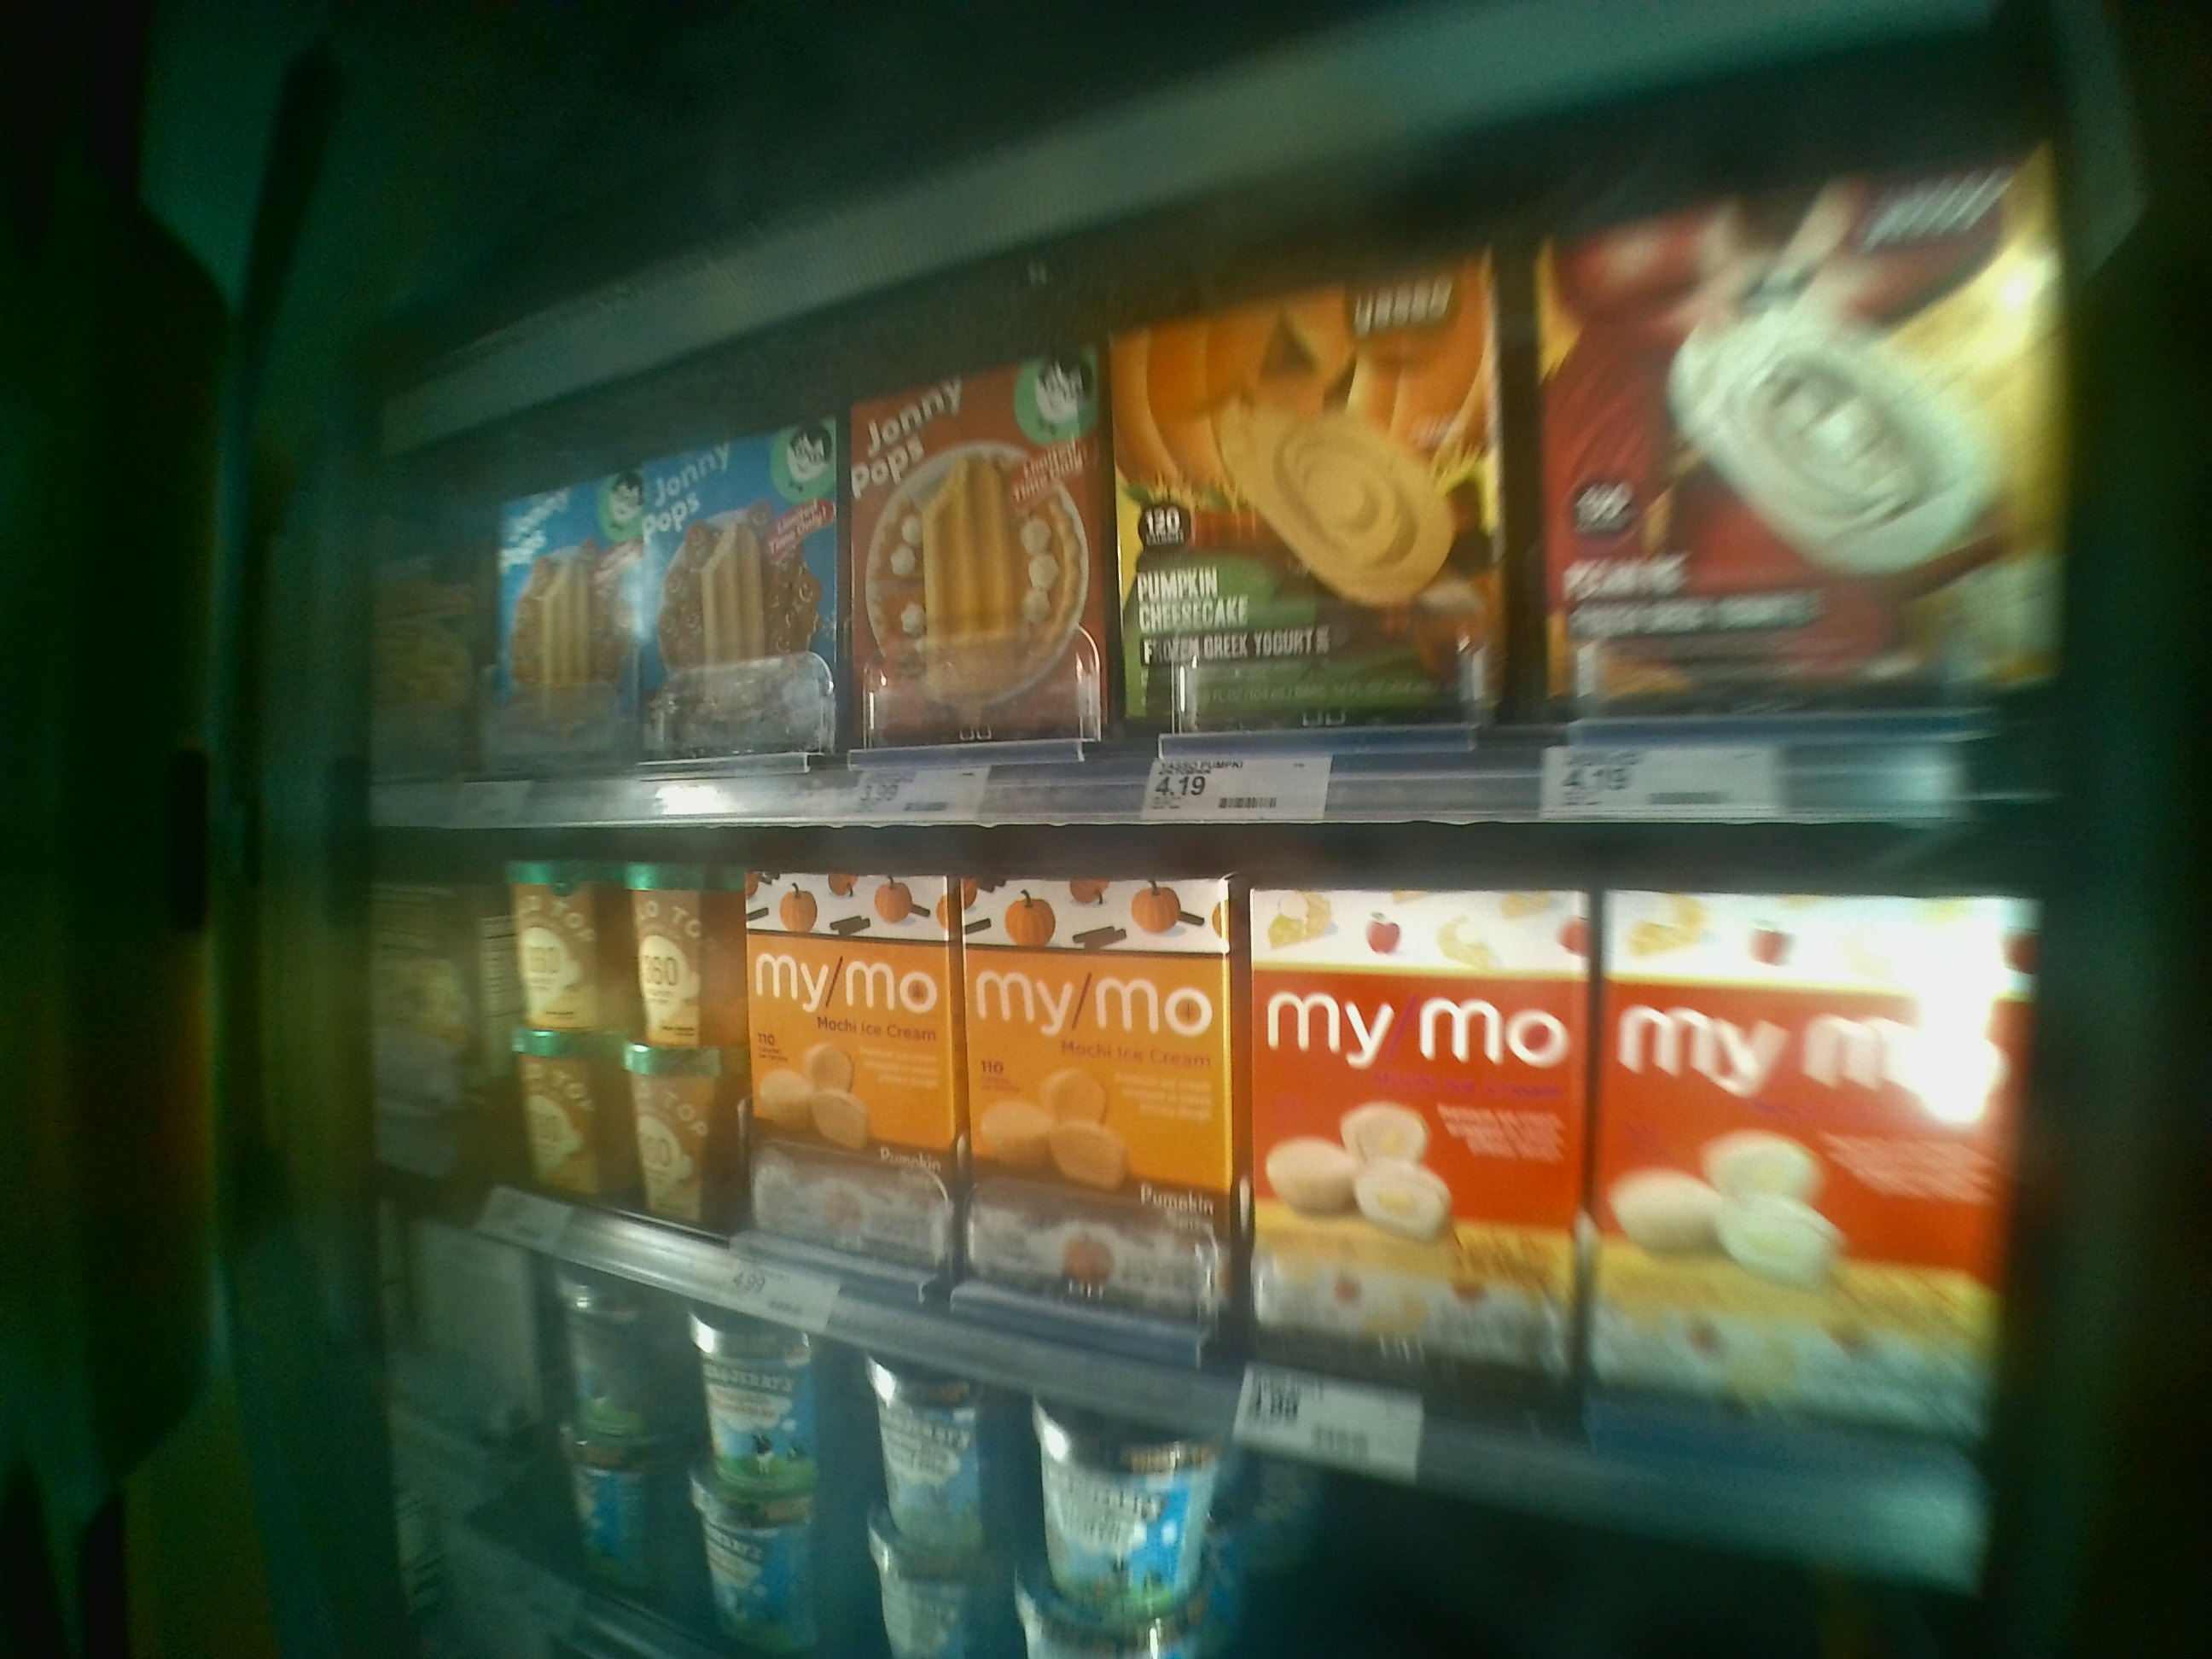shelf: (347, 840, 2031, 1474), (364, 288, 2083, 828)
